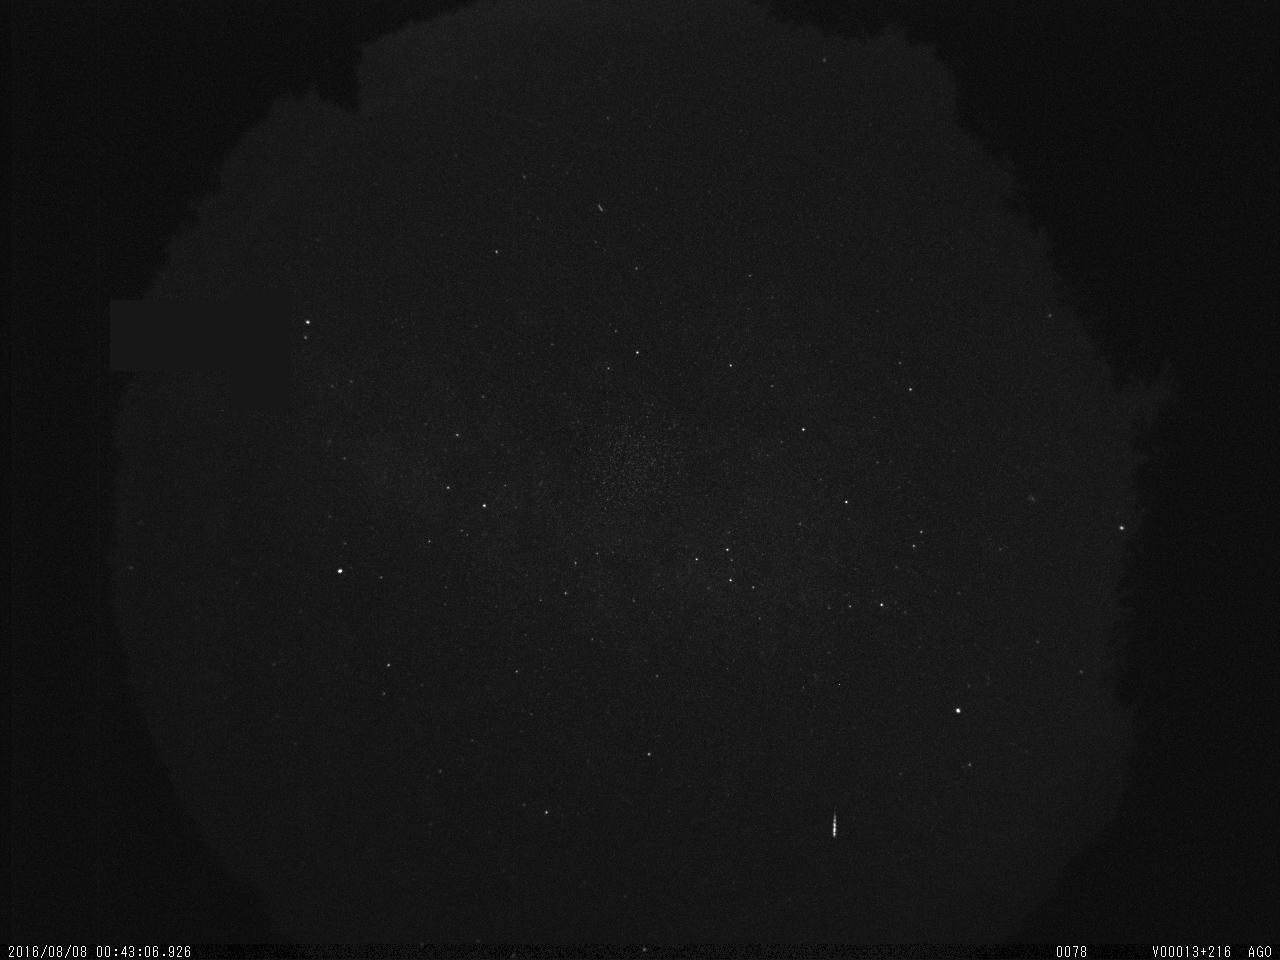Meteor: (829, 806, 840, 838)
